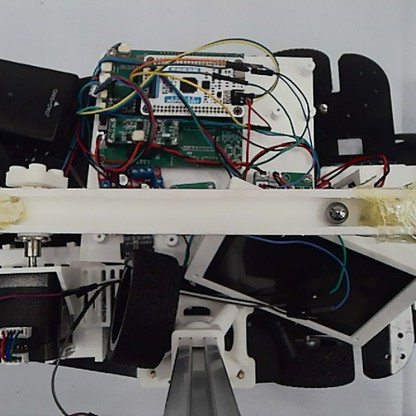ironball: (322, 199, 350, 225)
